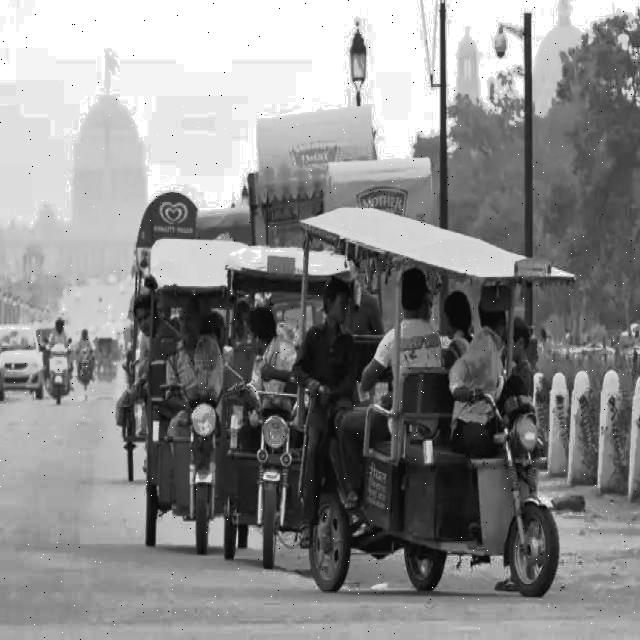Toto: (302, 211, 566, 608), (144, 238, 234, 556), (223, 246, 307, 574)
